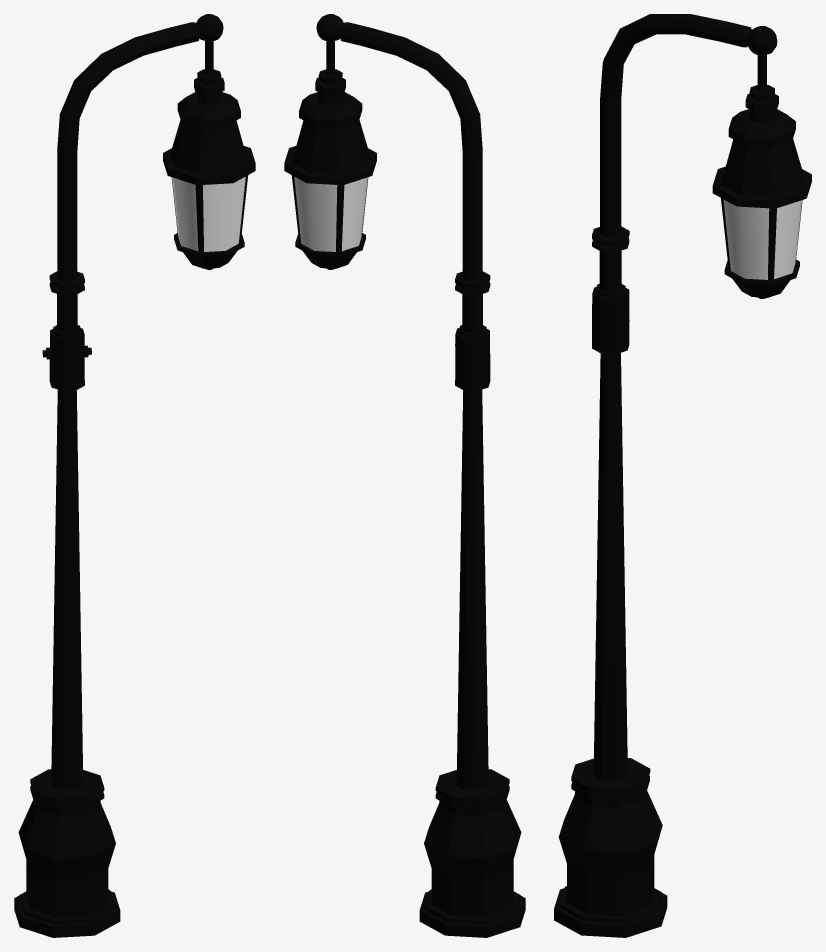
The model's file is poste.obj.
3 views of the same model, side by side, from view 1: azimuth 30°, elevation 25°; view 2: azimuth 150°, elevation 25°; view 3: azimuth 330°, elevation 25° (orthographic). The views are drawn at different scales.
Parts seen in each view (by area): view 1: model_1_pole_Material.001, model_1_glass_Material.002, model_1_rod_Material.003; view 2: model_1_pole_Material.001, model_1_glass_Material.002, model_1_rod_Material.003; view 3: model_1_pole_Material.001, model_1_glass_Material.002, model_1_rod_Material.003.
Part boxes in pixels (box(x1,y1,x2,y2)): model_1_pole_Material.001: box(14, 14, 255, 937); model_1_glass_Material.002: box(172, 176, 245, 251); model_1_rod_Material.003: box(171, 175, 248, 252); model_1_pole_Material.001: box(284, 14, 525, 937); model_1_glass_Material.002: box(294, 176, 367, 251); model_1_rod_Material.003: box(291, 175, 368, 252); model_1_pole_Material.001: box(554, 14, 811, 937); model_1_glass_Material.002: box(723, 199, 802, 279); model_1_rod_Material.003: box(721, 198, 802, 279).
Size of the model in its own units: 0.0066 by 0.0236 by 0.00272.
Materials: 4 (4 with a texture image).
